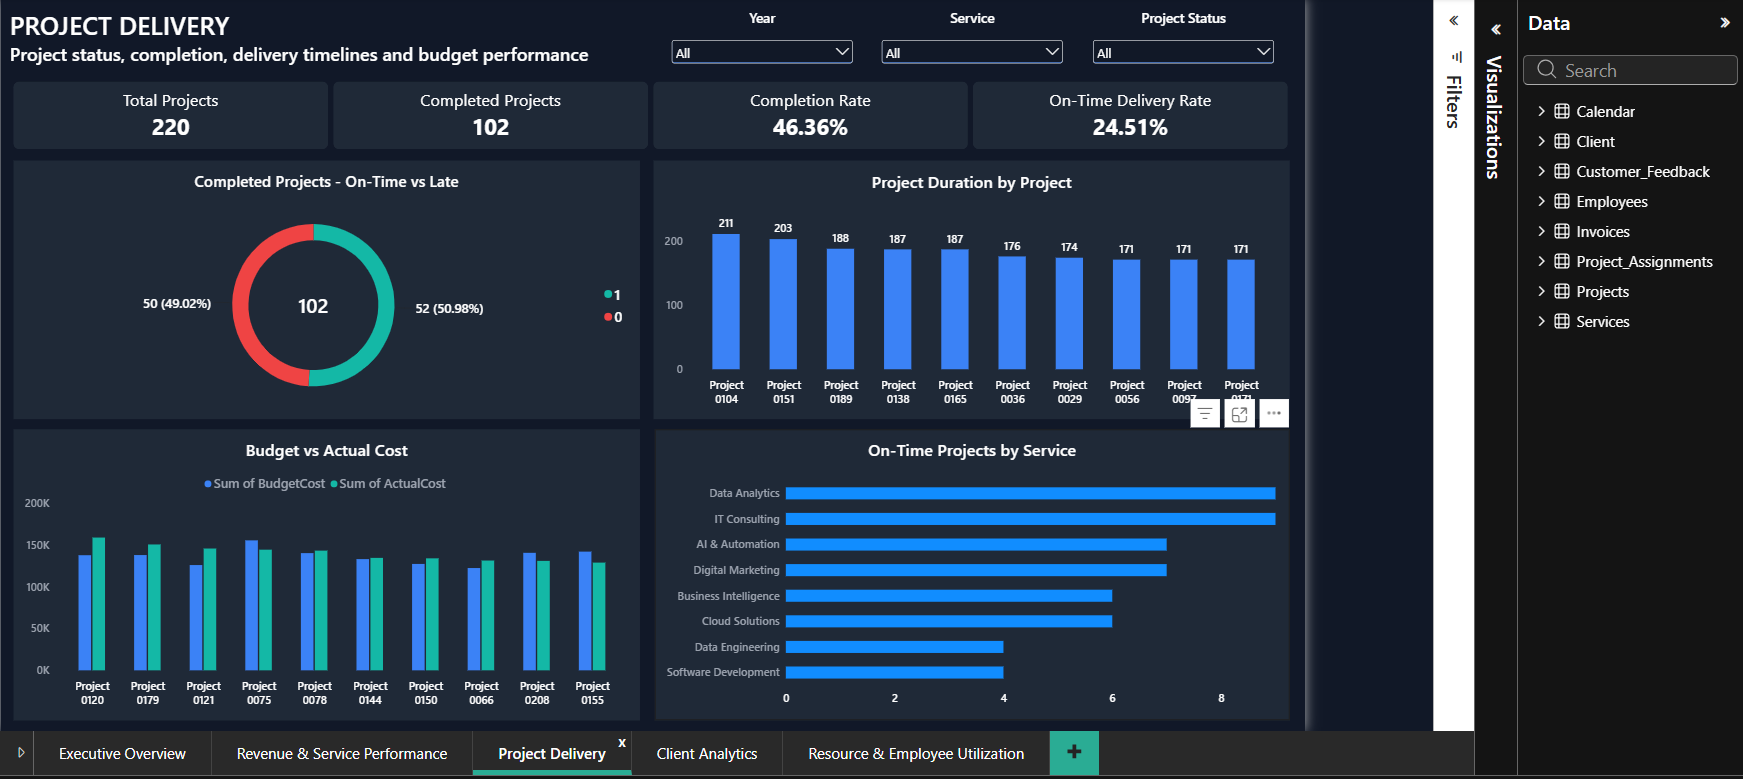

What the dashboard file says about the page in this screenshot:
{"tool":"powerbi","page":{"name":"Project Delivery","canvas":[1920,1080],"ordinal":2},"visuals":[{"type":"textbox","box":[12.9,14.7,340.5,62.6],"z":0},{"type":"textbox","box":[12.9,64.4,865,58.9],"z":1000},{"type":"cardVisual","title":"Total Projects","fields":{"Data":["Services.Total Projects","Services.Completed Projects","Services.Completion Rate","Services.On-Time Delivery Rate"]},"box":[18.4,123.3,1879.2,99.4],"z":2000},{"type":"donutChart","title":"Completed Projects - On-Time vs Late","fields":{"Category":["Projects.OnTimeFlag"],"Y":["Services.Completed Projects"]},"box":[18.4,239.3,922.1,381],"z":3000},{"type":"clusteredColumnChart","title":"Budget vs Actual Cost","fields":{"Category":["Projects.ProjectName"],"Y":["Sum(Projects.BudgetCost)","Sum(Projects.ActualCost)"]},"box":[18.4,635,922.1,428.8],"z":4000},{"type":"clusteredColumnChart","title":"Project Duration by Project","fields":{"Category":["Projects.ProjectName"],"Y":["Services.Average Project Duration"]},"box":[960.7,239.3,936.8,381],"z":5000},{"type":"clusteredBarChart","title":"On-Time Projects by Service","fields":{"Category":["Services.ServiceName"],"Y":["Services.On-Time Projects"]},"box":[962.6,635,935,428.8],"z":6000},{"type":"slicer","title":"Year","fields":{"Values":["Calendar.Year"]},"box":[982.8,14.7,276.1,101.2],"z":7000},{"type":"slicer","title":"Service","fields":{"Values":["Services.ServiceName"]},"box":[1292,14.7,276.1,101.2],"z":8000},{"type":"slicer","title":"Project Status","fields":{"Values":["Projects.Status"]},"box":[1603.1,14.7,276.1,101.2],"z":9000}]}

Visuals, with their boxes on the page's 1920x1080 design canvas (x1, y1, x2, y2). These are canvas units, not pixel positions in the 1743x779 screenshot, which may show the page scaled, cropped or inside an application window:
textbox: locate(13, 15, 353, 77)
textbox: locate(13, 64, 878, 123)
"Total Projects" cardVisual: locate(18, 123, 1898, 223)
"Completed Projects - On-Time vs Late" donutChart: locate(18, 239, 940, 620)
"Budget vs Actual Cost" clusteredColumnChart: locate(18, 635, 940, 1064)
"Project Duration by Project" clusteredColumnChart: locate(961, 239, 1898, 620)
"On-Time Projects by Service" clusteredBarChart: locate(963, 635, 1898, 1064)
"Year" slicer: locate(983, 15, 1259, 116)
"Service" slicer: locate(1292, 15, 1568, 116)
"Project Status" slicer: locate(1603, 15, 1879, 116)
